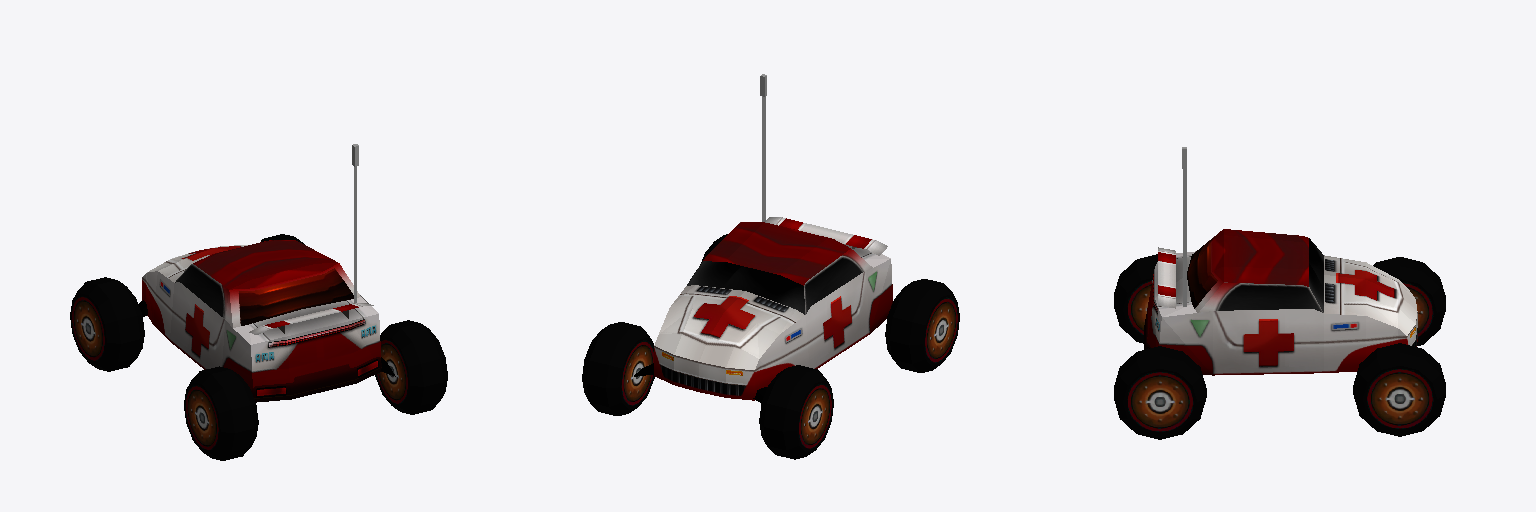
3 views of the same model, side by side, from view 1: azimuth 30°, elevation 25°; view 2: azimuth 150°, elevation 25°; view 3: azimuth 270°, elevation 25° (orthographic).
Visible parts, largest first — view 1: BODY_body.prm, WHEEL_0_wheell.prm, WHEEL_2_wheell.prm, WHEEL_3_wheelr.prm; view 2: BODY_body.prm, WHEEL_2_wheell.prm, WHEEL_0_wheell.prm, WHEEL_1_wheelr.prm; view 3: BODY_body.prm, WHEEL_1_wheelr.prm, WHEEL_3_wheelr.prm, WHEEL_0_wheell.prm, WHEEL_2_wheell.prm.
Boxes of the visible parts, <box> form: BODY_body.prm: <box>142,240,381,402</box>; WHEEL_0_wheell.prm: <box>70,277,144,371</box>; WHEEL_2_wheell.prm: <box>184,366,258,460</box>; WHEEL_3_wheelr.prm: <box>375,320,447,414</box>; BODY_body.prm: <box>654,217,892,400</box>; WHEEL_2_wheell.prm: <box>885,279,959,372</box>; WHEEL_0_wheell.prm: <box>759,365,833,459</box>; WHEEL_1_wheelr.prm: <box>582,322,654,415</box>; BODY_body.prm: <box>1144,229,1417,375</box>; WHEEL_1_wheelr.prm: <box>1353,343,1445,436</box>; WHEEL_3_wheelr.prm: <box>1114,346,1206,439</box>; WHEEL_0_wheell.prm: <box>1373,257,1445,345</box>; WHEEL_2_wheell.prm: <box>1114,254,1157,343</box>.
Bounding box in the file's own units: 7.44 × 8.32 × 9.44.
Materials: 4 (1 with a texture image).